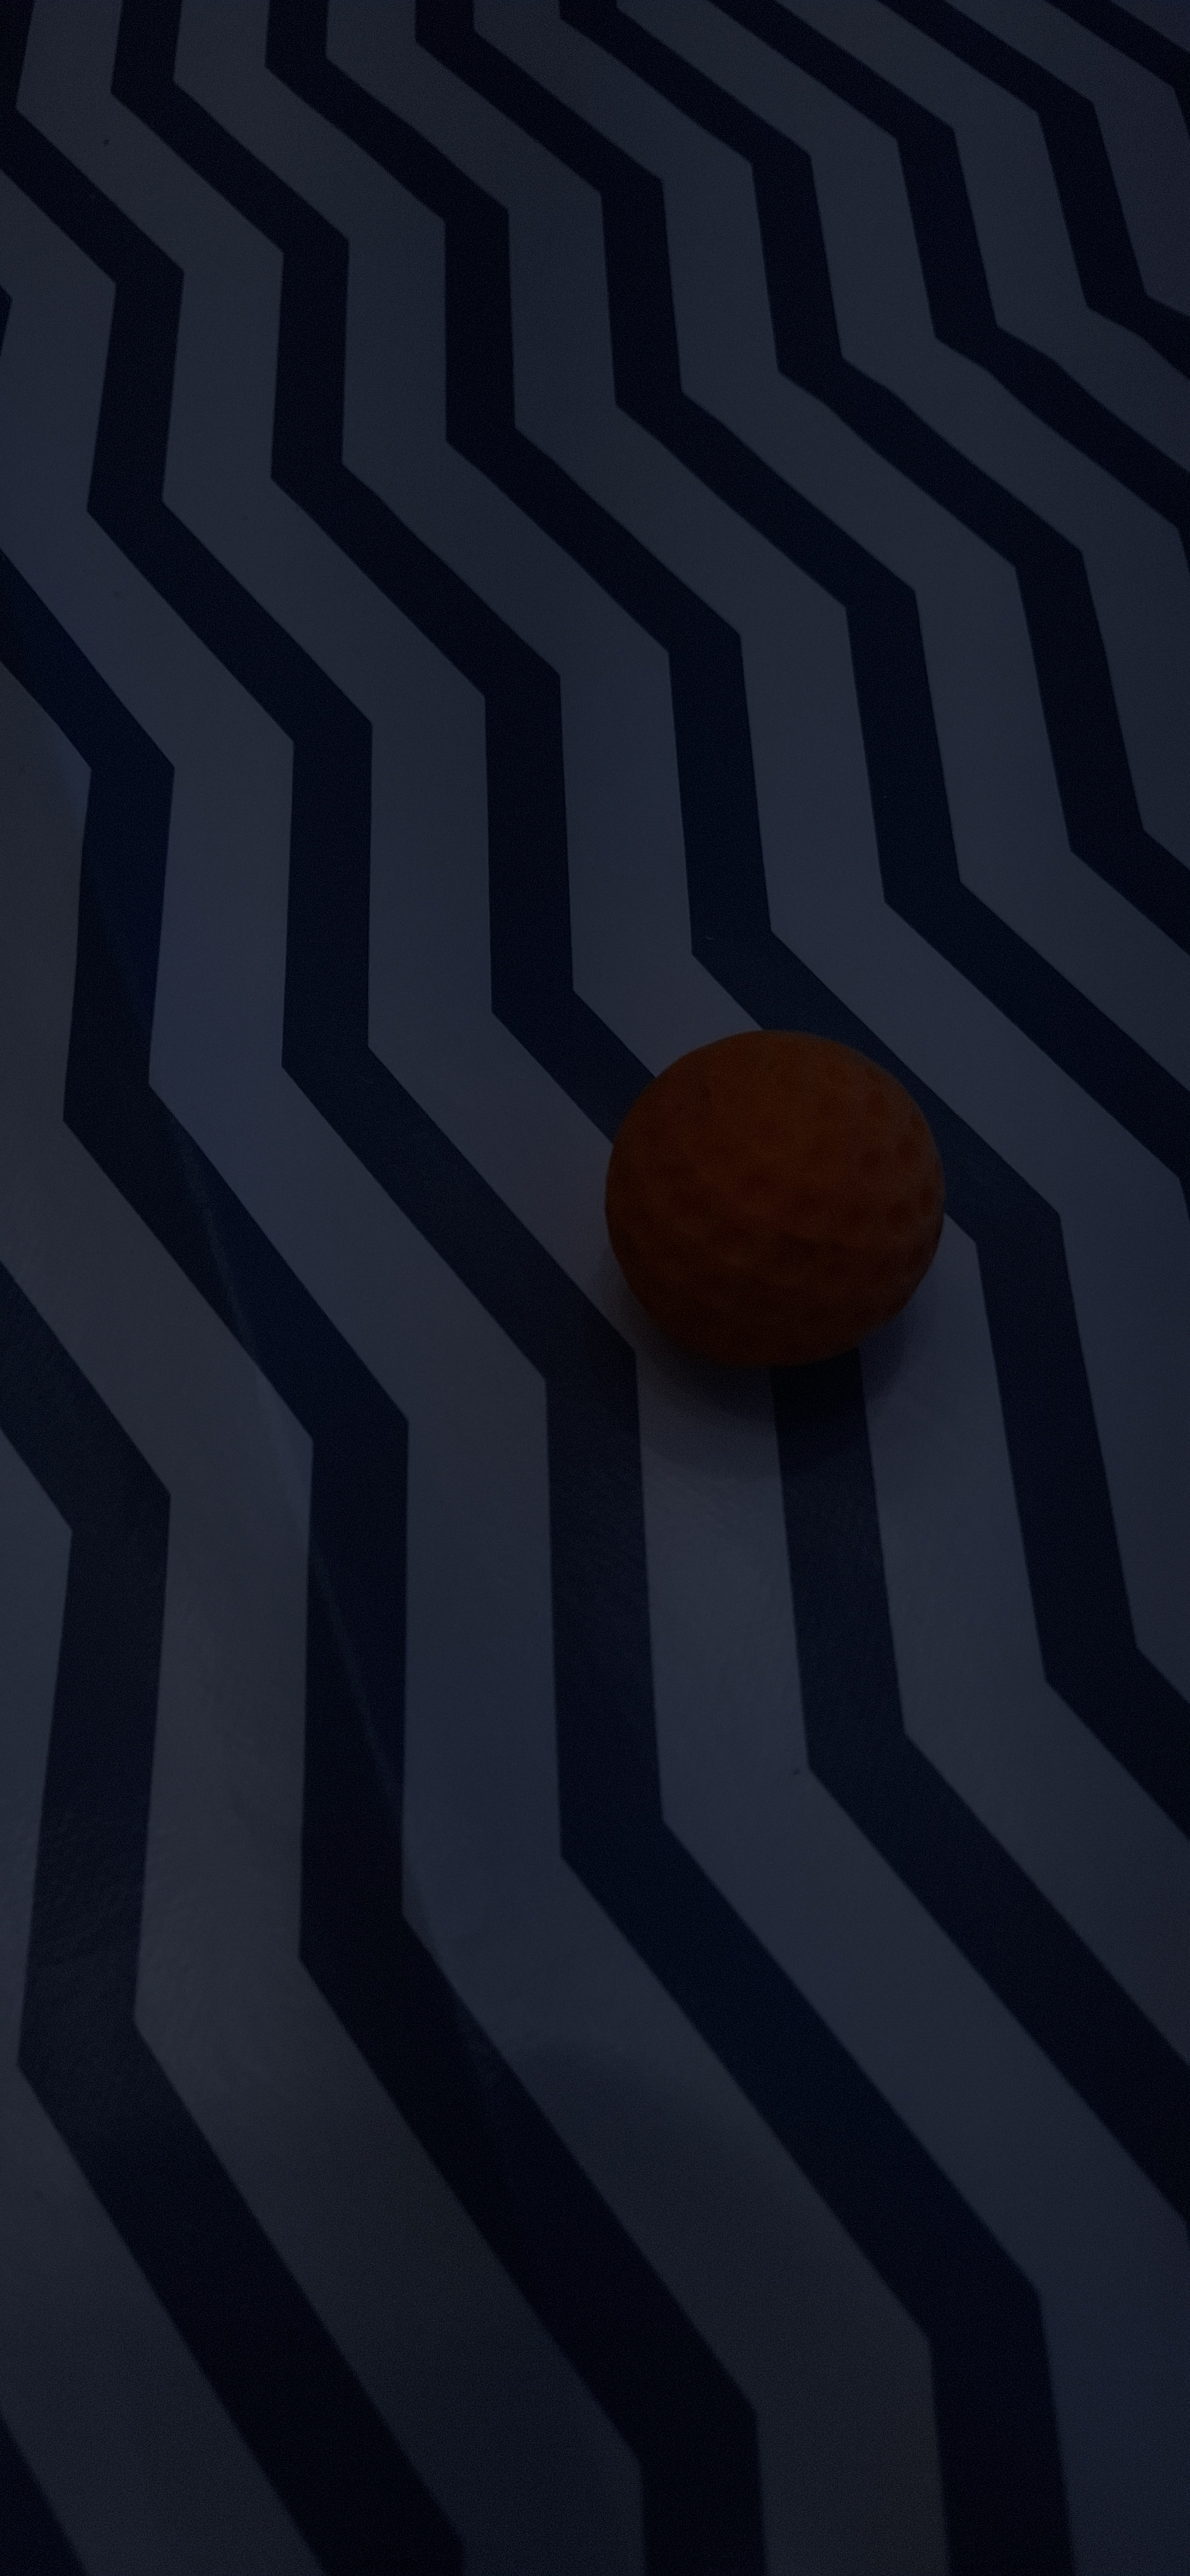ball: (477, 531, 634, 1267)
